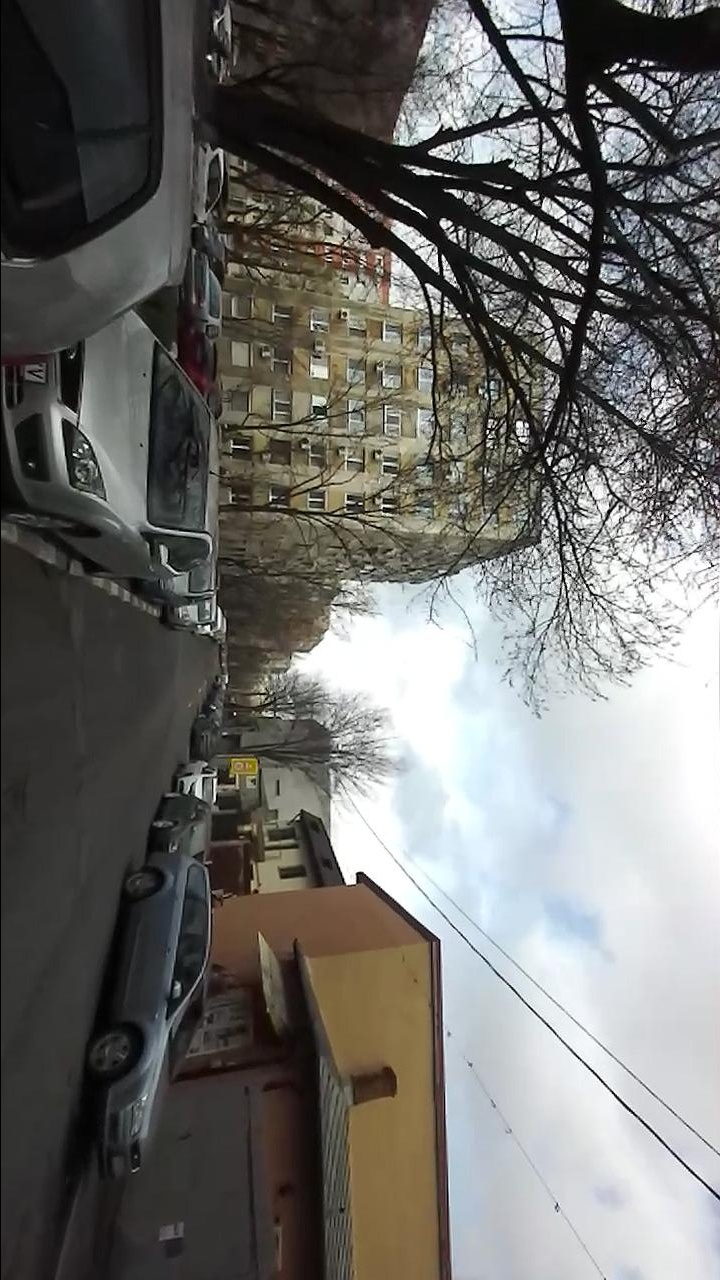pothole: (1, 771, 33, 836), (38, 560, 52, 577)
